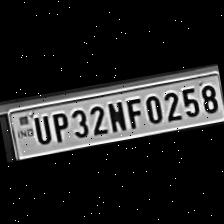0: (140, 90, 164, 124)
2: (158, 85, 182, 122), (84, 100, 107, 136)
3: (66, 102, 88, 138)
5: (174, 82, 200, 119)
8: (194, 78, 218, 114)
F: (122, 94, 144, 130)
N: (102, 95, 127, 132)
P: (46, 107, 71, 142)
U: (28, 111, 51, 145)
